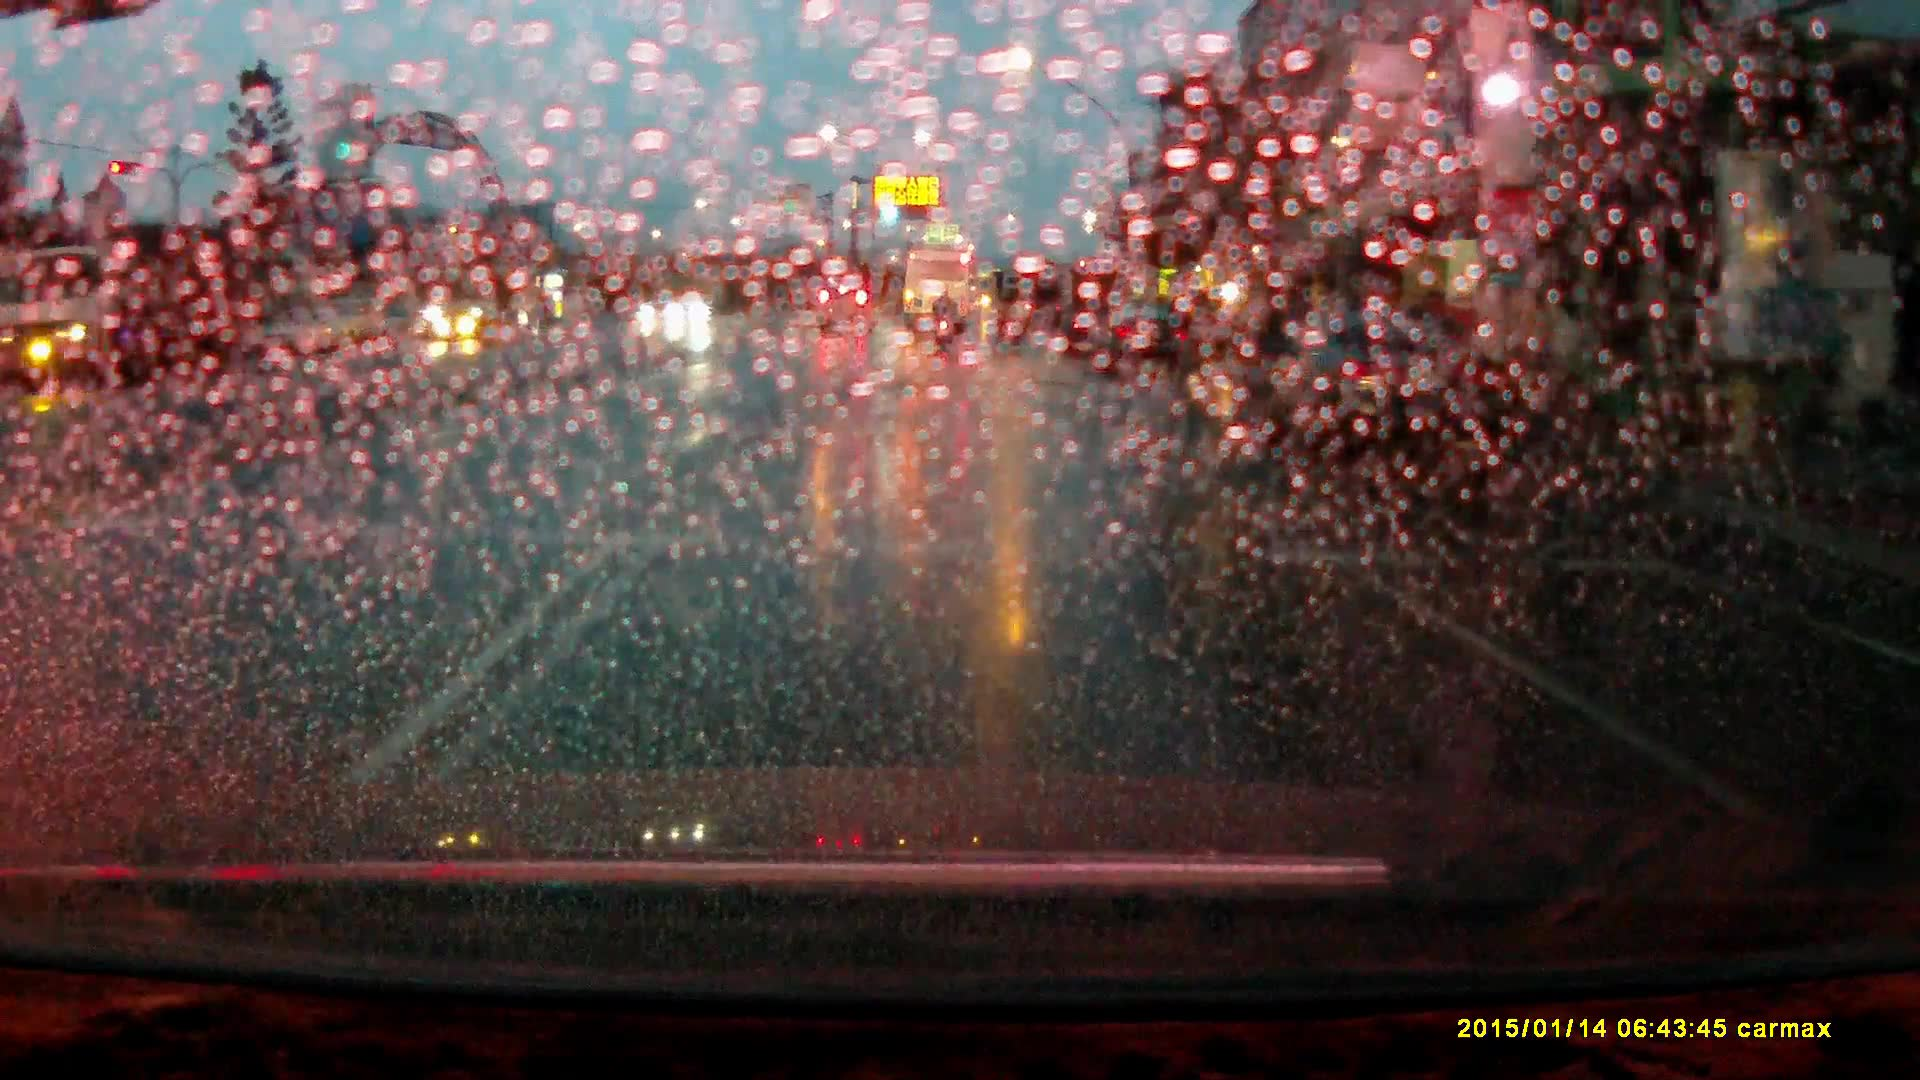rider: (932, 288, 958, 351)
vehicle: (1, 242, 239, 396), (1271, 314, 1501, 469), (425, 265, 548, 342), (1097, 307, 1190, 380), (905, 251, 974, 336), (815, 286, 878, 336), (663, 293, 712, 325)
